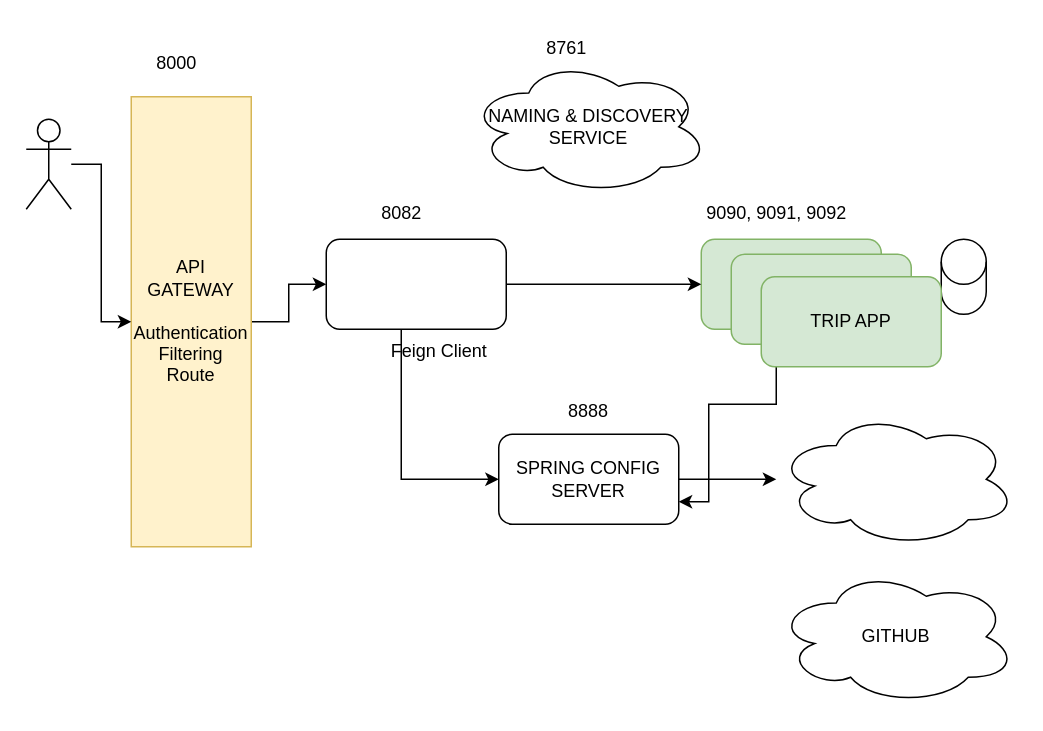
Some shapes in this 1043 by 731 pixel diagram are drawn without their labels. The shapes that lost their labels are listed below. From the top down, each one's box as (x1, y1, x2, y2) in pixels, then its label:
(25, 118, 71, 209): Actor
(325, 238, 506, 329): TRIP BOOKING APP
(775, 410, 1016, 547): GIT REPO app.properties
